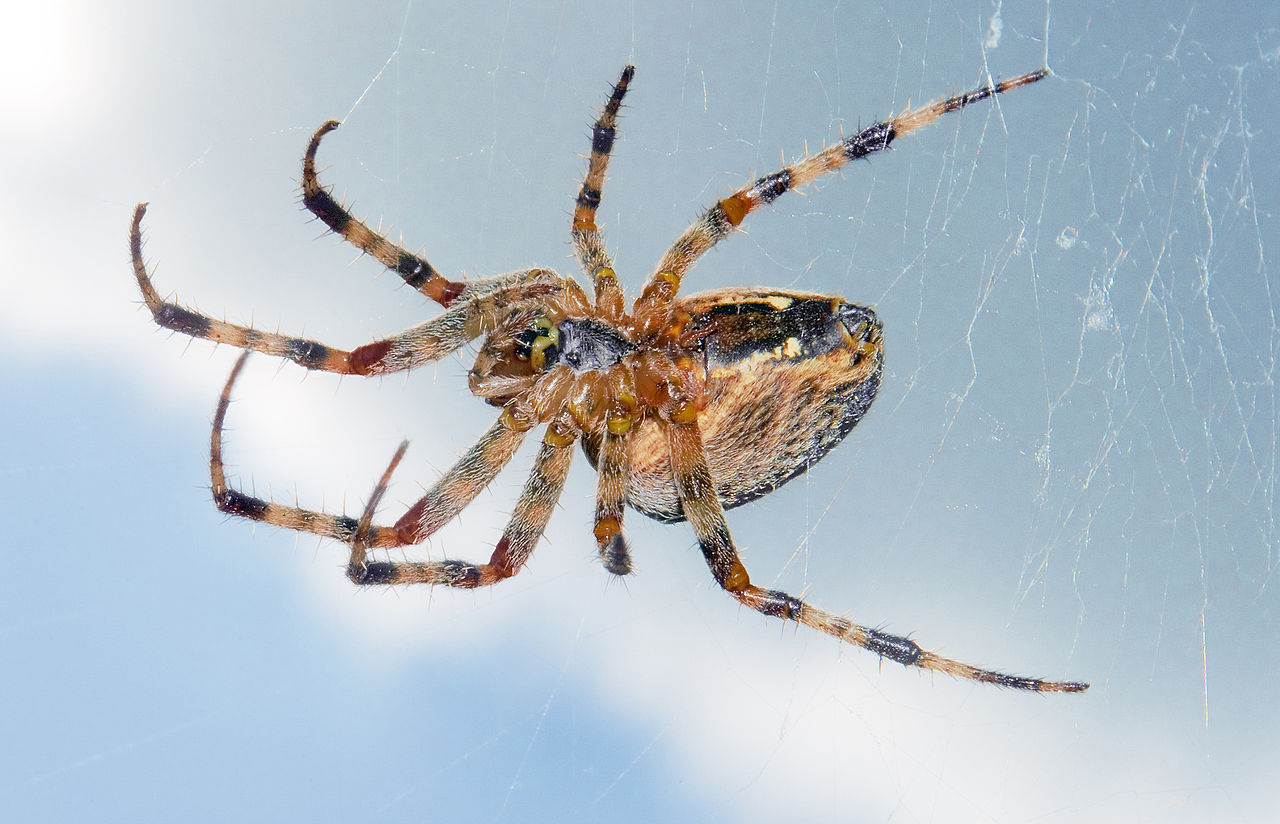spider: (98, 18, 1126, 718)
